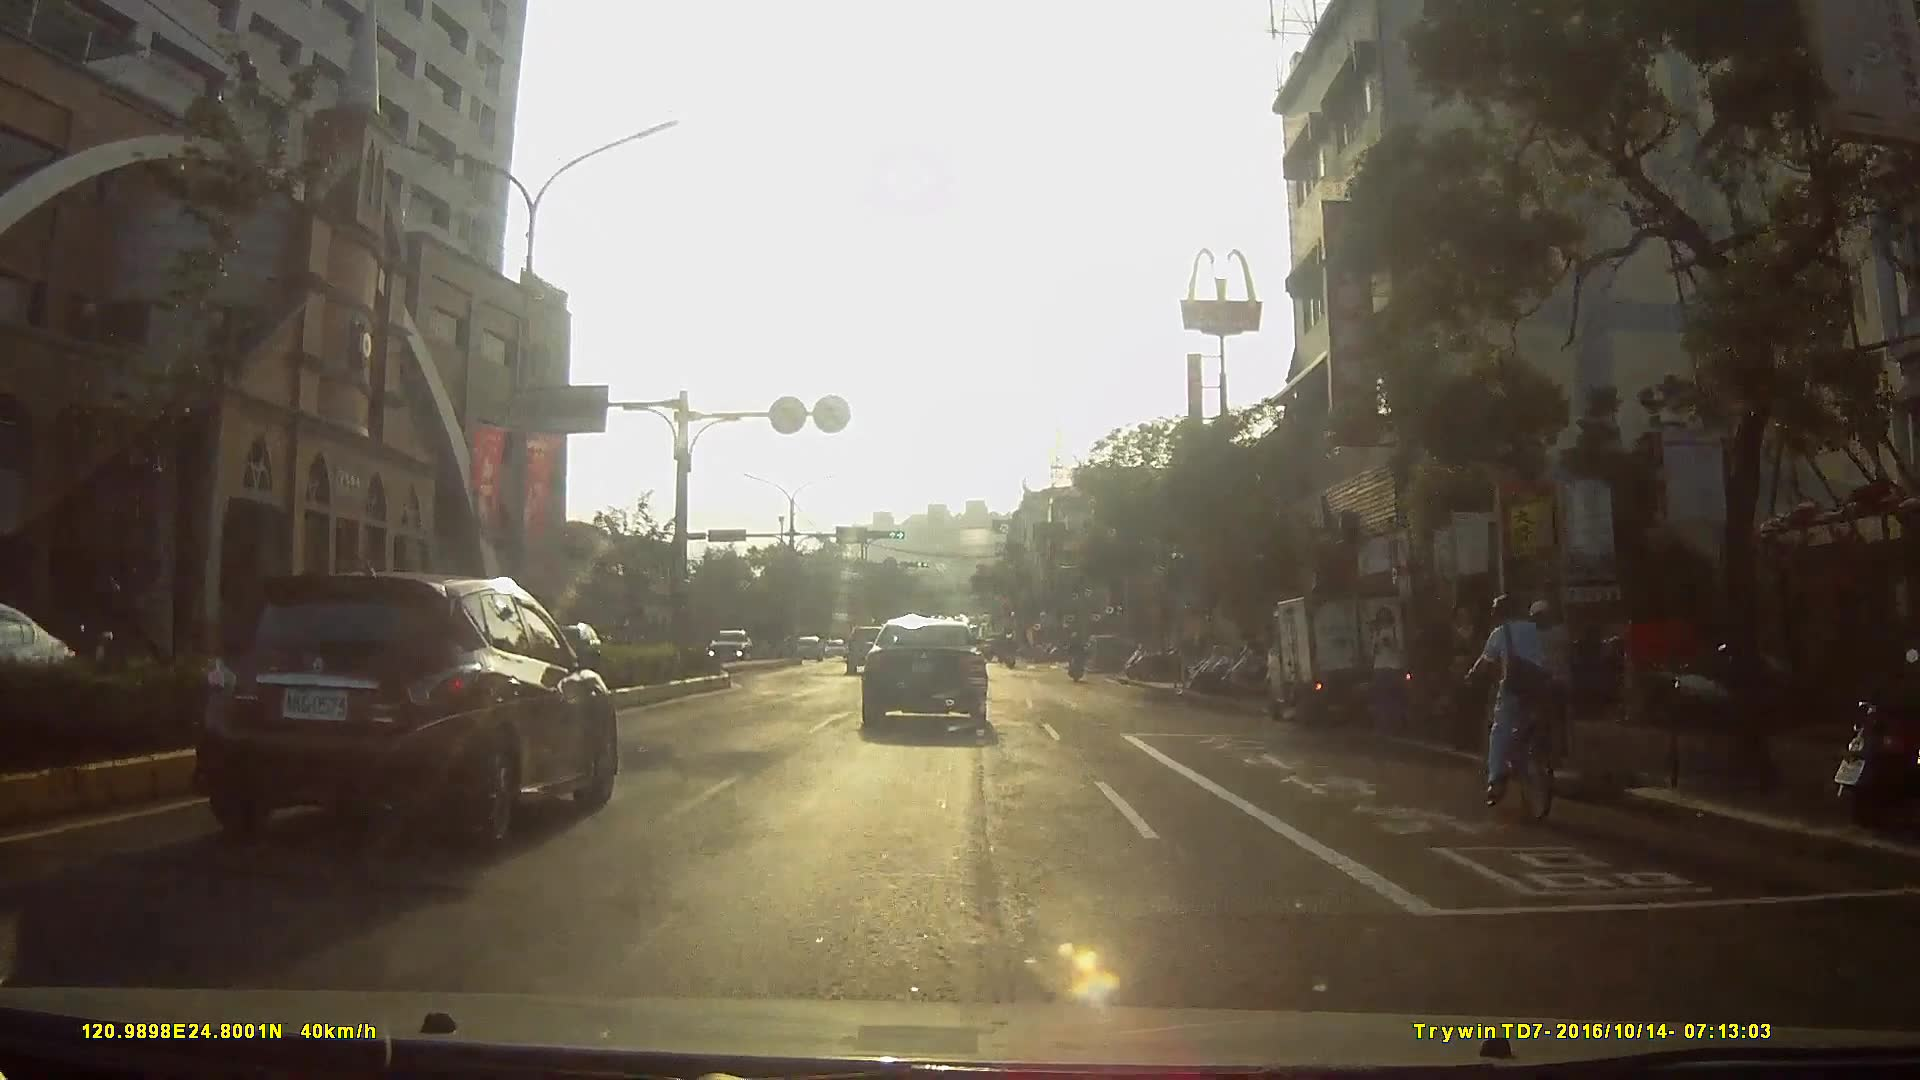pedestrian: (1516, 599, 1578, 764), (1441, 596, 1495, 757), (1367, 599, 1411, 734)
rider: (1453, 586, 1562, 823), (1066, 627, 1092, 685)
vehicle: (177, 563, 632, 850), (1255, 582, 1430, 734), (861, 610, 1006, 736), (842, 619, 901, 674), (702, 623, 755, 665), (785, 630, 819, 663)
